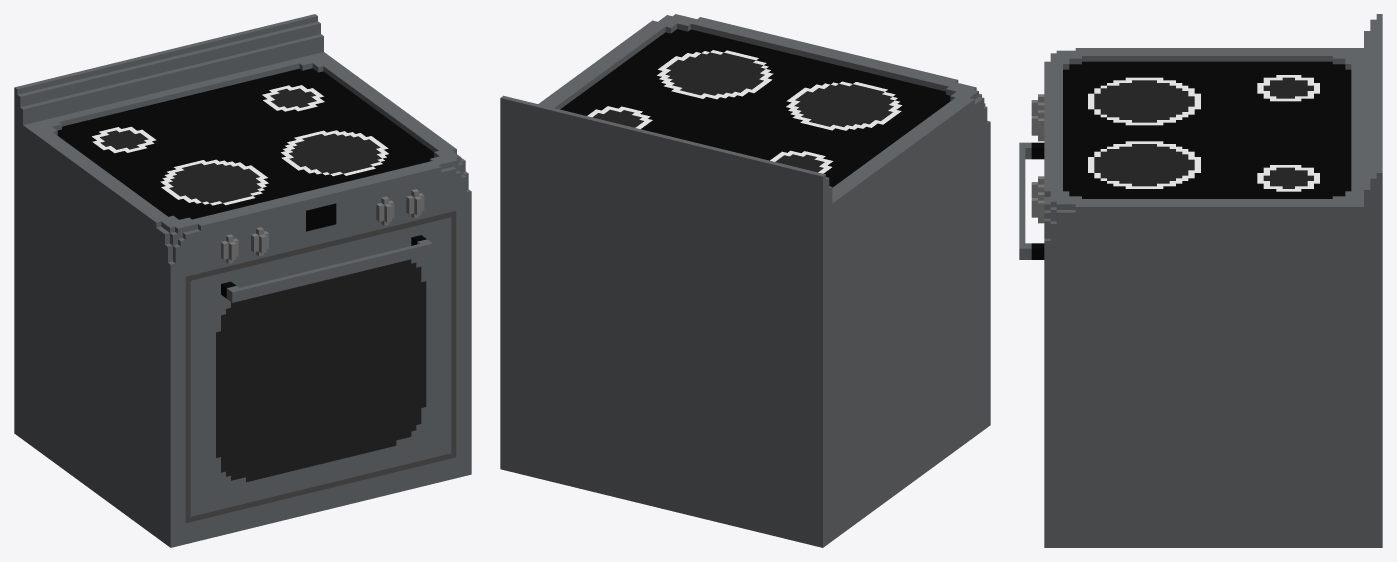
The model's file is curing_chamber.glb.
The picture shows the model from 3 angles, left to right: view 1: azimuth 30°, elevation 25°; view 2: azimuth 150°, elevation 25°; view 3: azimuth 270°, elevation 25°; orthographic projection. The views are drawn at different scales.
Parts seen in each view (by area): view 1: model_0; view 2: model_0; view 3: model_0.
Boxes of the visible parts, left/top/right/bottom form: model_0: left=14, top=14, right=471, bottom=547; model_0: left=500, top=14, right=990, bottom=547; model_0: left=1019, top=14, right=1382, bottom=547.
Bounding box in the file's own units: 6 × 6.6 × 5.8.
1 material, 1 textured.
